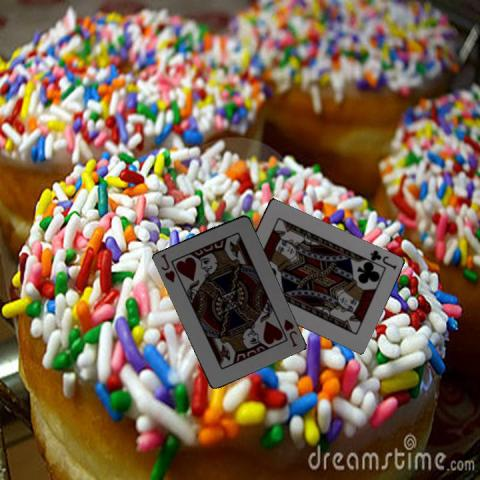Jc: (367, 248, 397, 272)
Jh: (280, 315, 299, 349), (157, 251, 176, 284)
